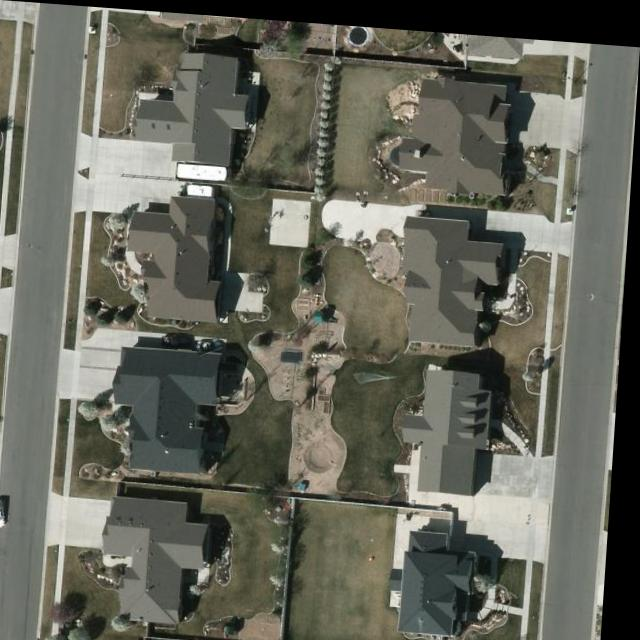vehicle: (166, 330, 198, 348), (0, 497, 17, 529), (200, 334, 228, 352)
